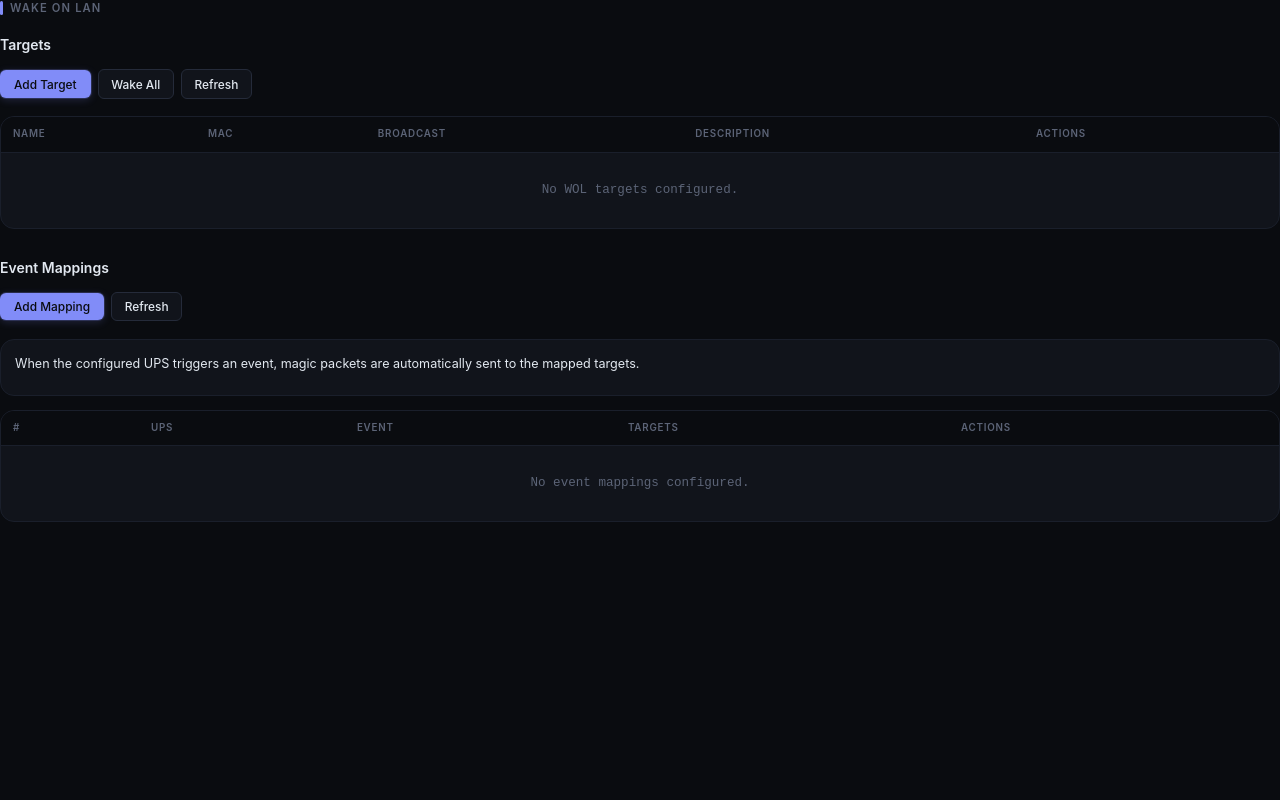
Test: WakeOnLan › shows validation error for invalid MAC format
Click the button "Add Target" at coordinates (45, 84), box x1=0 y1=70 x2=91 y2=98
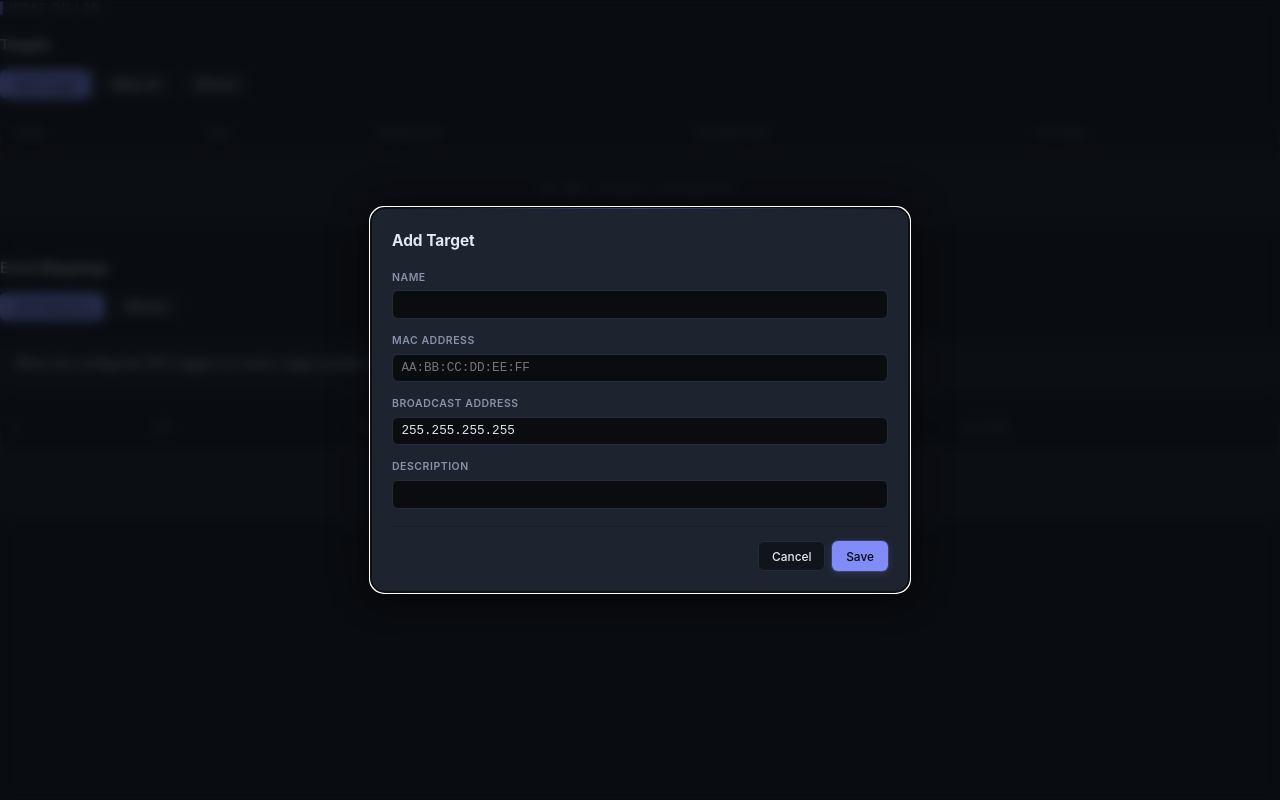
Check: the heading "Add Target" is shown, box x1=392 y1=231 x2=475 y2=250
Type "myserver" into the 1st field at coordinates (640, 305), box x1=392 y1=290 x2=888 y2=319
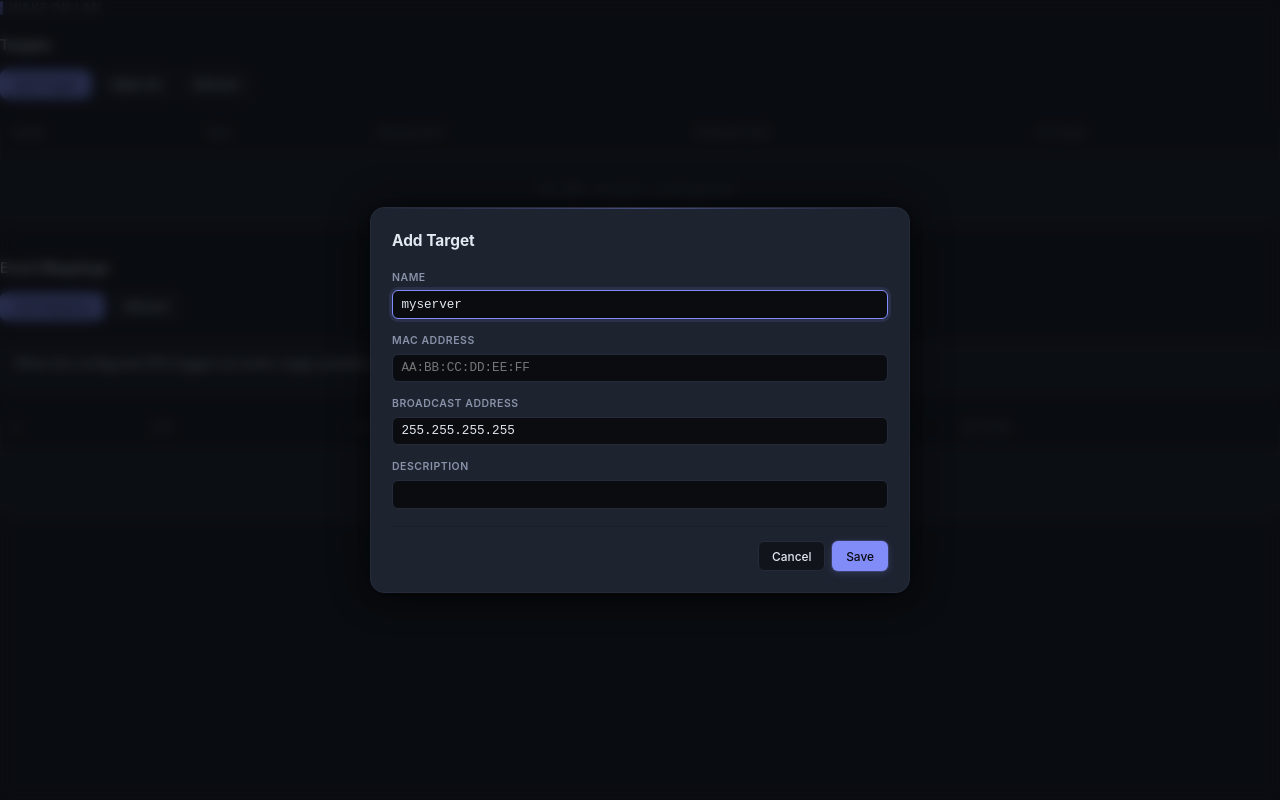
Type "not-a-mac" into the field with placeholder "AA:BB:CC:DD:EE:FF" at coordinates (640, 368), box x1=392 y1=354 x2=888 y2=382
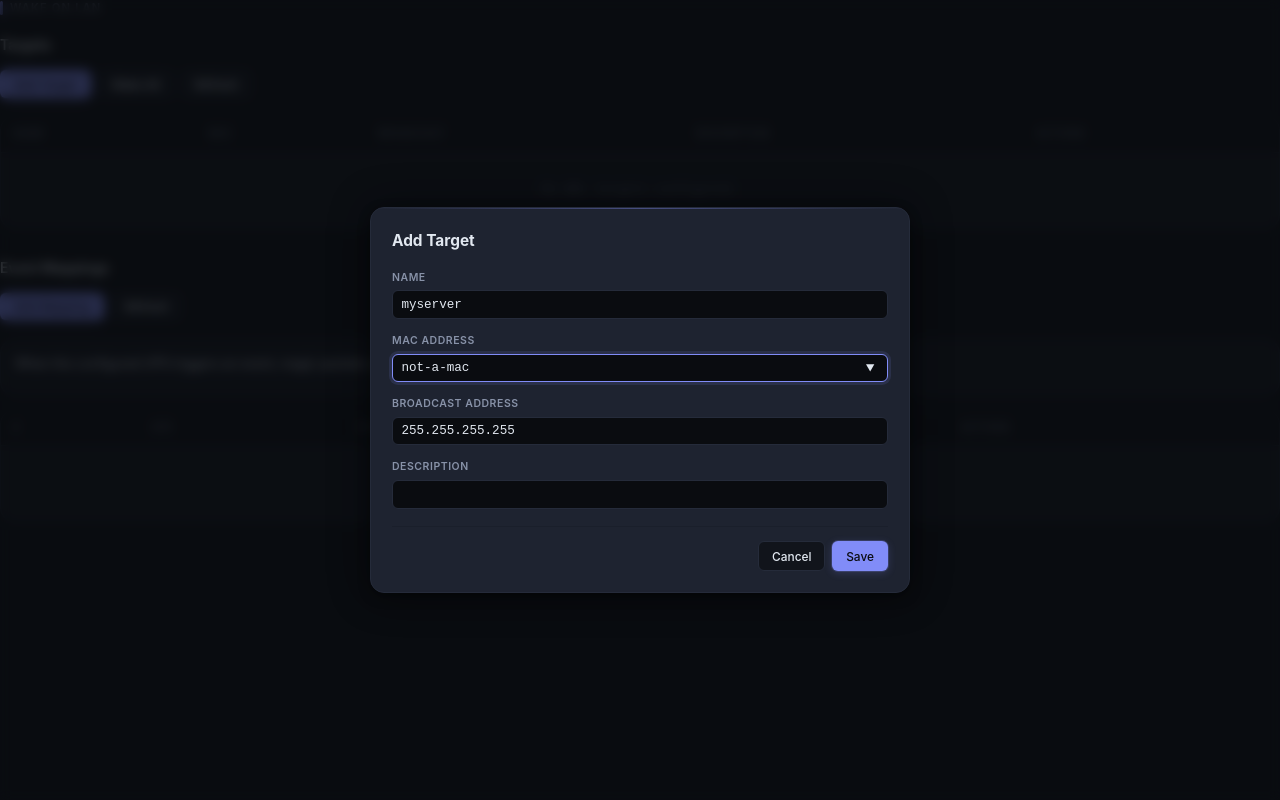
Click the button "Save" at coordinates (860, 556), box x1=832 y1=541 x2=888 y2=571
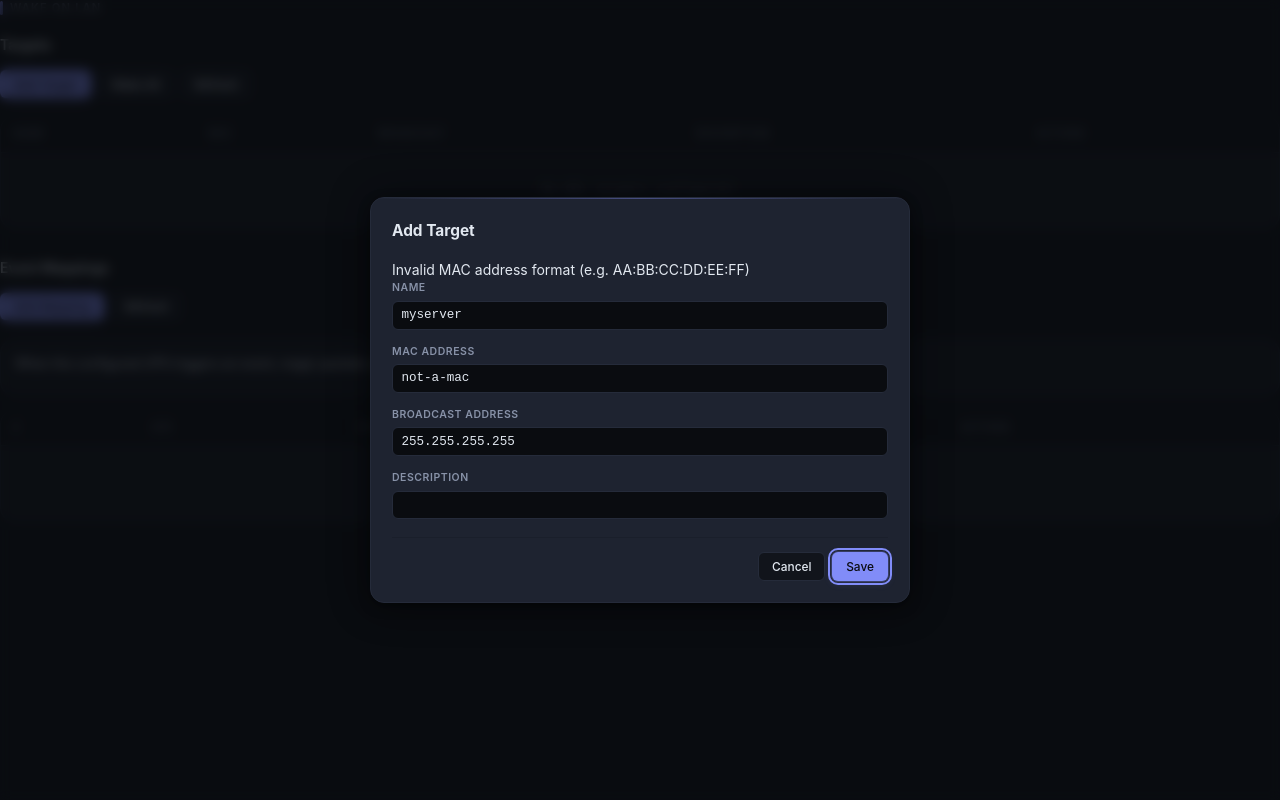
Check: the text "Invalid MAC address format (e.g. AA:BB:CC:DD:EE:FF)" is shown, box x1=392 y1=261 x2=750 y2=278
